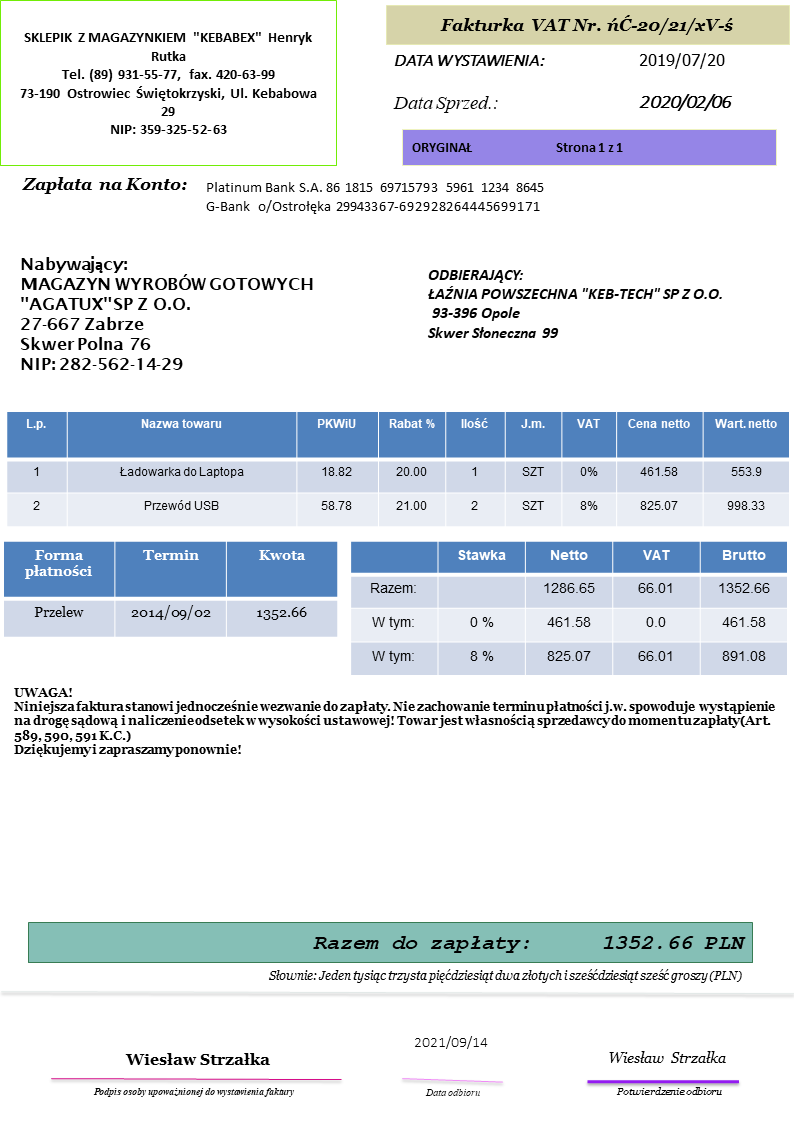Table: (5, 410, 792, 528), (349, 539, 789, 677), (2, 541, 339, 639)
TextBox: (10, 682, 778, 760), (15, 254, 318, 377), (17, 28, 321, 139), (424, 265, 725, 343), (202, 178, 546, 216), (308, 929, 748, 955), (267, 965, 744, 987), (438, 12, 737, 40), (407, 136, 626, 158), (90, 1083, 295, 1103), (18, 173, 189, 196), (123, 1048, 273, 1071), (389, 50, 546, 71), (390, 92, 501, 115), (607, 1047, 728, 1068), (636, 91, 733, 115), (635, 48, 727, 72), (613, 1082, 724, 1099), (410, 1032, 491, 1054), (421, 1083, 484, 1102)
